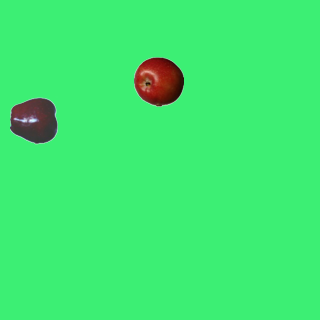Apple Braeburn: (133, 56, 183, 106)
Apple Red Delicious: (9, 95, 59, 145)
